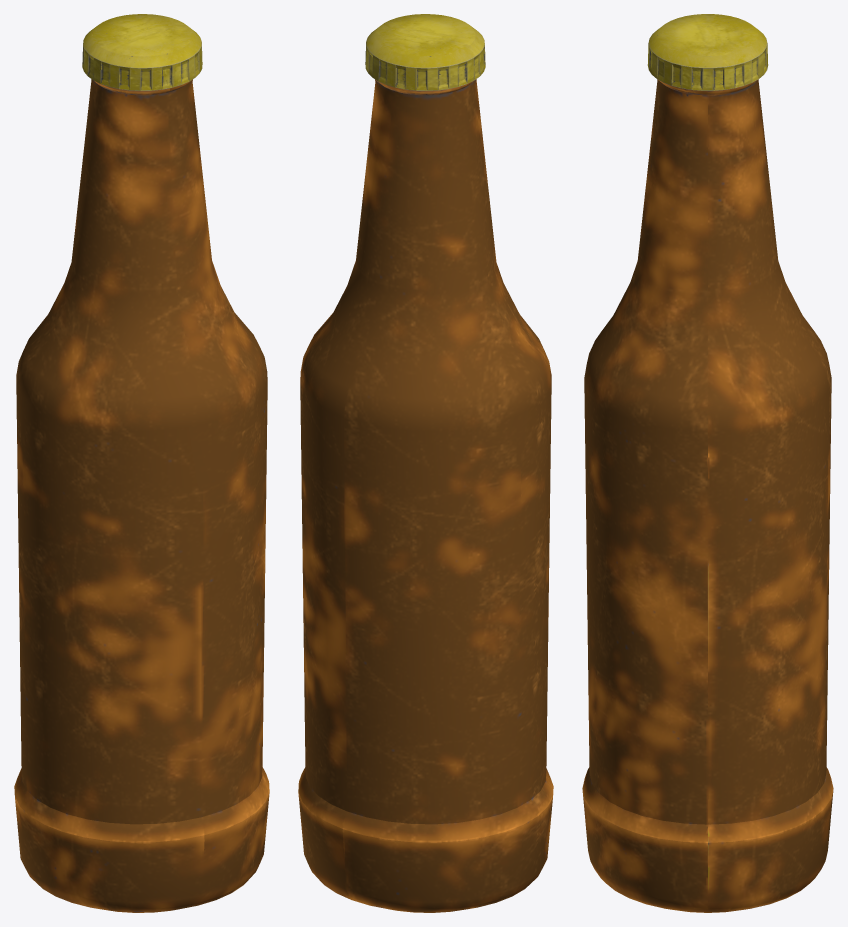
File: Beer1.fbx
3 views of the same model, side by side, from view 1: azimuth 30°, elevation 25°; view 2: azimuth 150°, elevation 25°; view 3: azimuth 270°, elevation 25° (orthographic).
Parts seen in each view (by area): view 1: Cylinder.001; view 2: Cylinder.001; view 3: Cylinder.001.
Part boxes in pixels (bbox=[...]): Cylinder.001: bbox=[14, 14, 269, 912]; Cylinder.001: bbox=[298, 14, 553, 912]; Cylinder.001: bbox=[582, 14, 833, 912].
Size of the model in its own units: 10.06 by 36.19 by 9.81.
